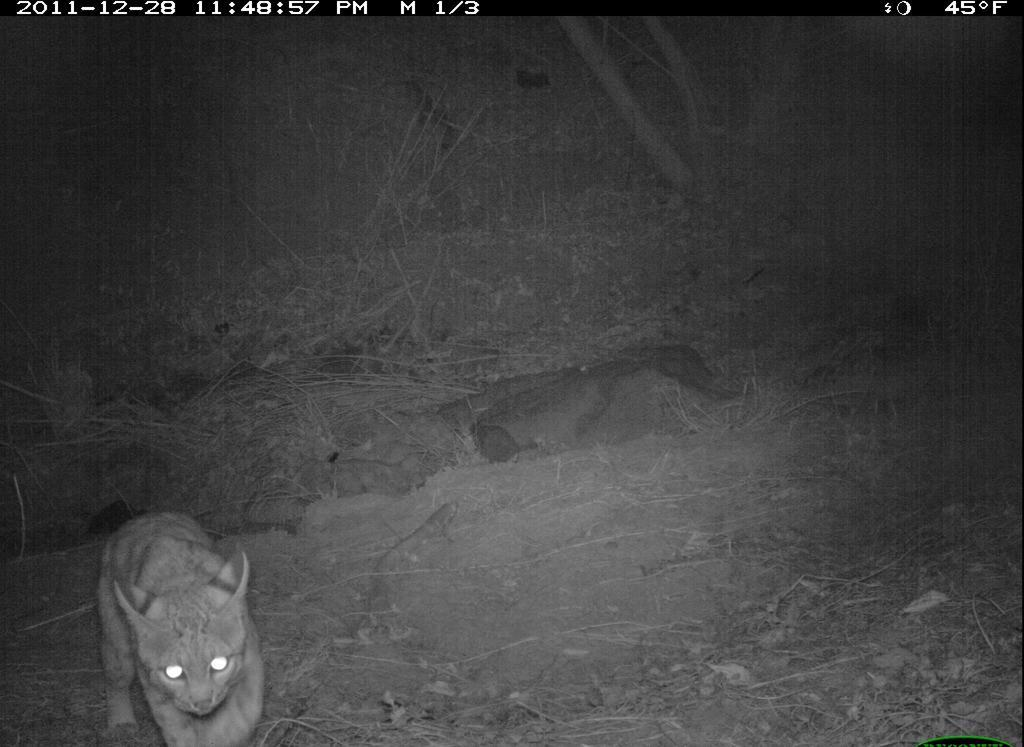bobcat: (86, 497, 276, 747)
